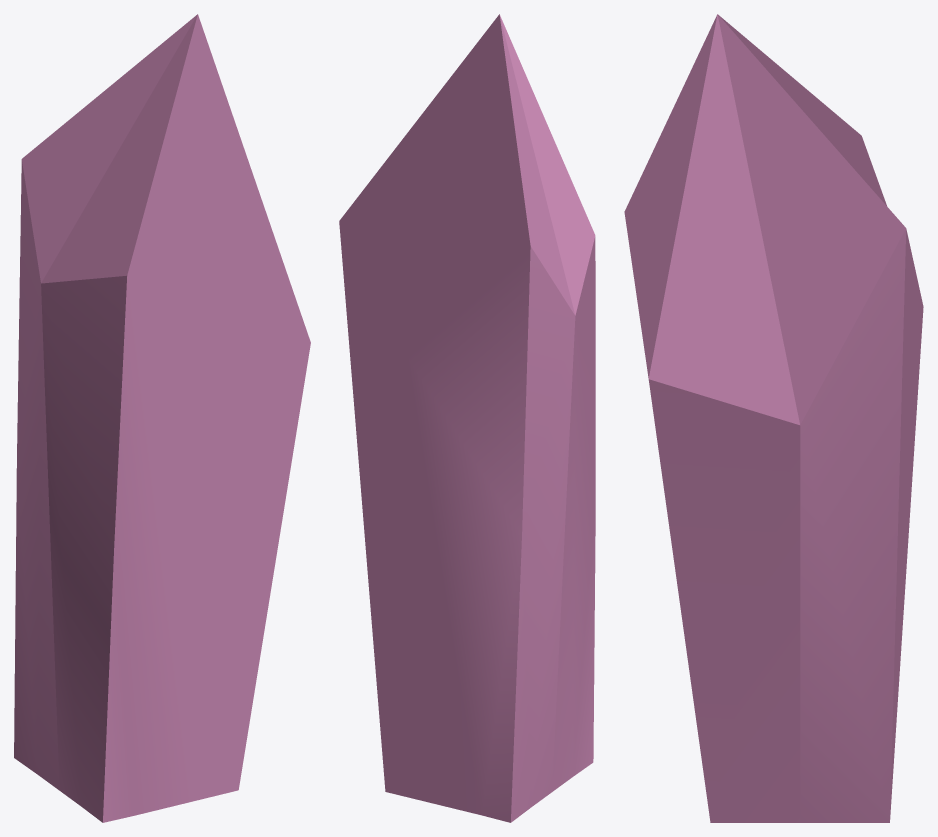
Rendered from Small_Crystal_4_LOD.fbx.
3 views of the same model, side by side, from view 1: azimuth 30°, elevation 25°; view 2: azimuth 150°, elevation 25°; view 3: azimuth 270°, elevation 25° (orthographic). The views are drawn at different scales.
Visible parts, largest first — view 1: pCube32; view 2: pCube32; view 3: pCube32.
Part boxes in pixels (x1,y1,x2,y2): pCube32: (14,14,310,822); pCube32: (339,14,595,822); pCube32: (624,14,923,822).
Bounding box in the file's own units: 1.8 × 6.46 × 2.21.
